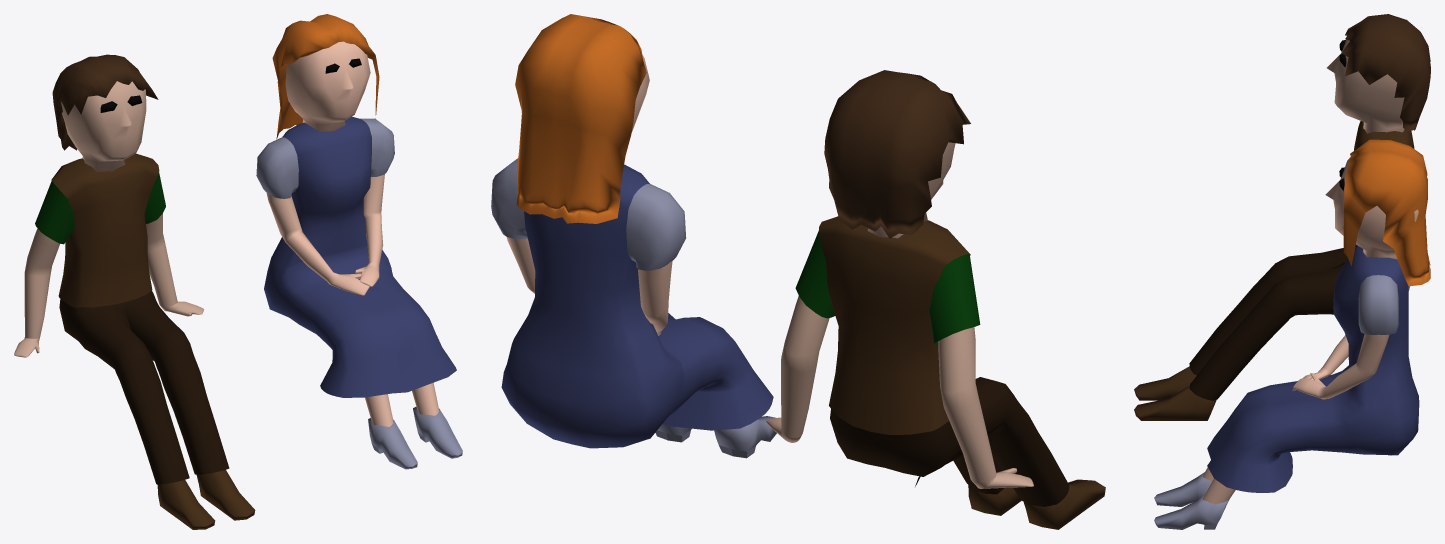
The model's file is to-the-moon.fbx.
3 renders of one model, left to right at view 1: azimuth 30°, elevation 25°; view 2: azimuth 150°, elevation 25°; view 3: azimuth 270°, elevation 25°, orthographic. The views are drawn at different scales.
Visible parts, largest first — view 1: polySurface5, polySurface16, polySurface17, polySurface20, pCube9, pCube8, polySurface19, pPlane4, pPlane3, pCylinder2, pCylinder4, pCylinder3 (+11 smaller); view 2: polySurface5, pPlane4, pPlane3, polySurface17, polySurface16, polySurface19, pCylinder2, pCylinder3, polySurface7, polySurface10, pCube4, polySurface20 (+7 smaller); view 3: polySurface5, pPlane4, polySurface20, pPlane3, pCube8, polySurface16, polySurface6, pCylinder5, pCube9, pCube5, pCube7, pCube4 (+4 smaller).
Boxes of the visible parts, x1,y1,x2,y2 form: polySurface5: (264,116,456,397); polySurface16: (59,299,189,484); polySurface17: (51,158,122,307); polySurface20: (120,291,229,474); pCube9: (285,41,370,131); pCube8: (61,81,146,171); polySurface19: (114,153,159,302); pPlane4: (272,14,379,139); pPlane3: (52,54,158,150); pCylinder2: (14,228,59,357); pCylinder4: (266,192,369,295); pCylinder3: (146,213,203,316); polySurface5: (501,164,773,448); pPlane4: (515,14,646,223); pPlane3: (824,70,970,238); polySurface17: (871,220,970,434); polySurface16: (874,377,1069,506); polySurface19: (818,216,878,431); pCylinder2: (938,327,1033,488); pCylinder3: (766,296,829,442); polySurface7: (626,183,686,270); polySurface10: (929,253,980,344); pCube4: (1023,479,1105,529); polySurface20: (830,409,1003,494); polySurface5: (1207,245,1419,492); pPlane4: (1343,139,1430,286); polySurface20: (1189,262,1345,400); pPlane3: (1342,14,1430,131); pCube8: (1327,39,1404,133); polySurface16: (1189,248,1346,375); polySurface6: (1358,275,1398,334); pCylinder5: (1293,334,1389,399); pCube9: (1325,157,1418,259); pCube5: (1134,386,1216,420); pCube7: (1154,494,1228,529); pCube4: (1134,366,1196,400).
Size of the model in its own units: 3.18 by 3.02 by 2.12.
